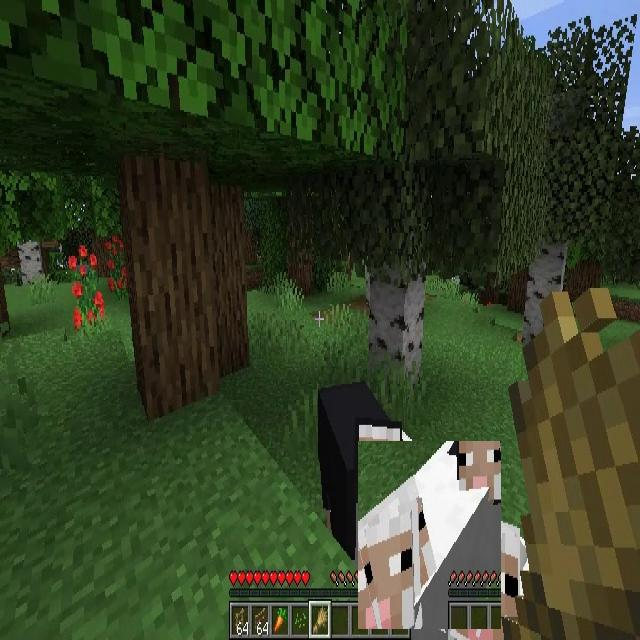sheep: (358, 441, 501, 629), (319, 380, 412, 556)
